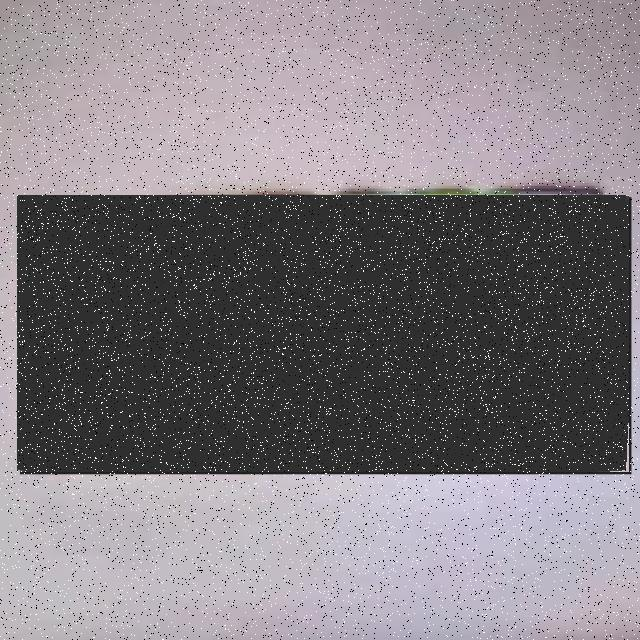lima puluh ribu rupiah: (17, 195, 629, 472)
